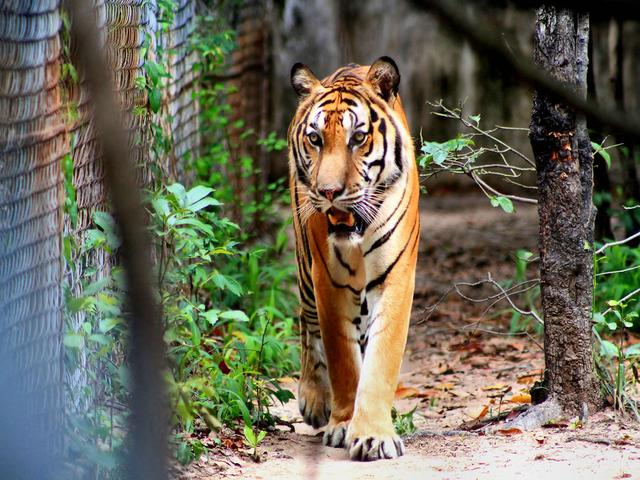tiger: (253, 66, 431, 442)
